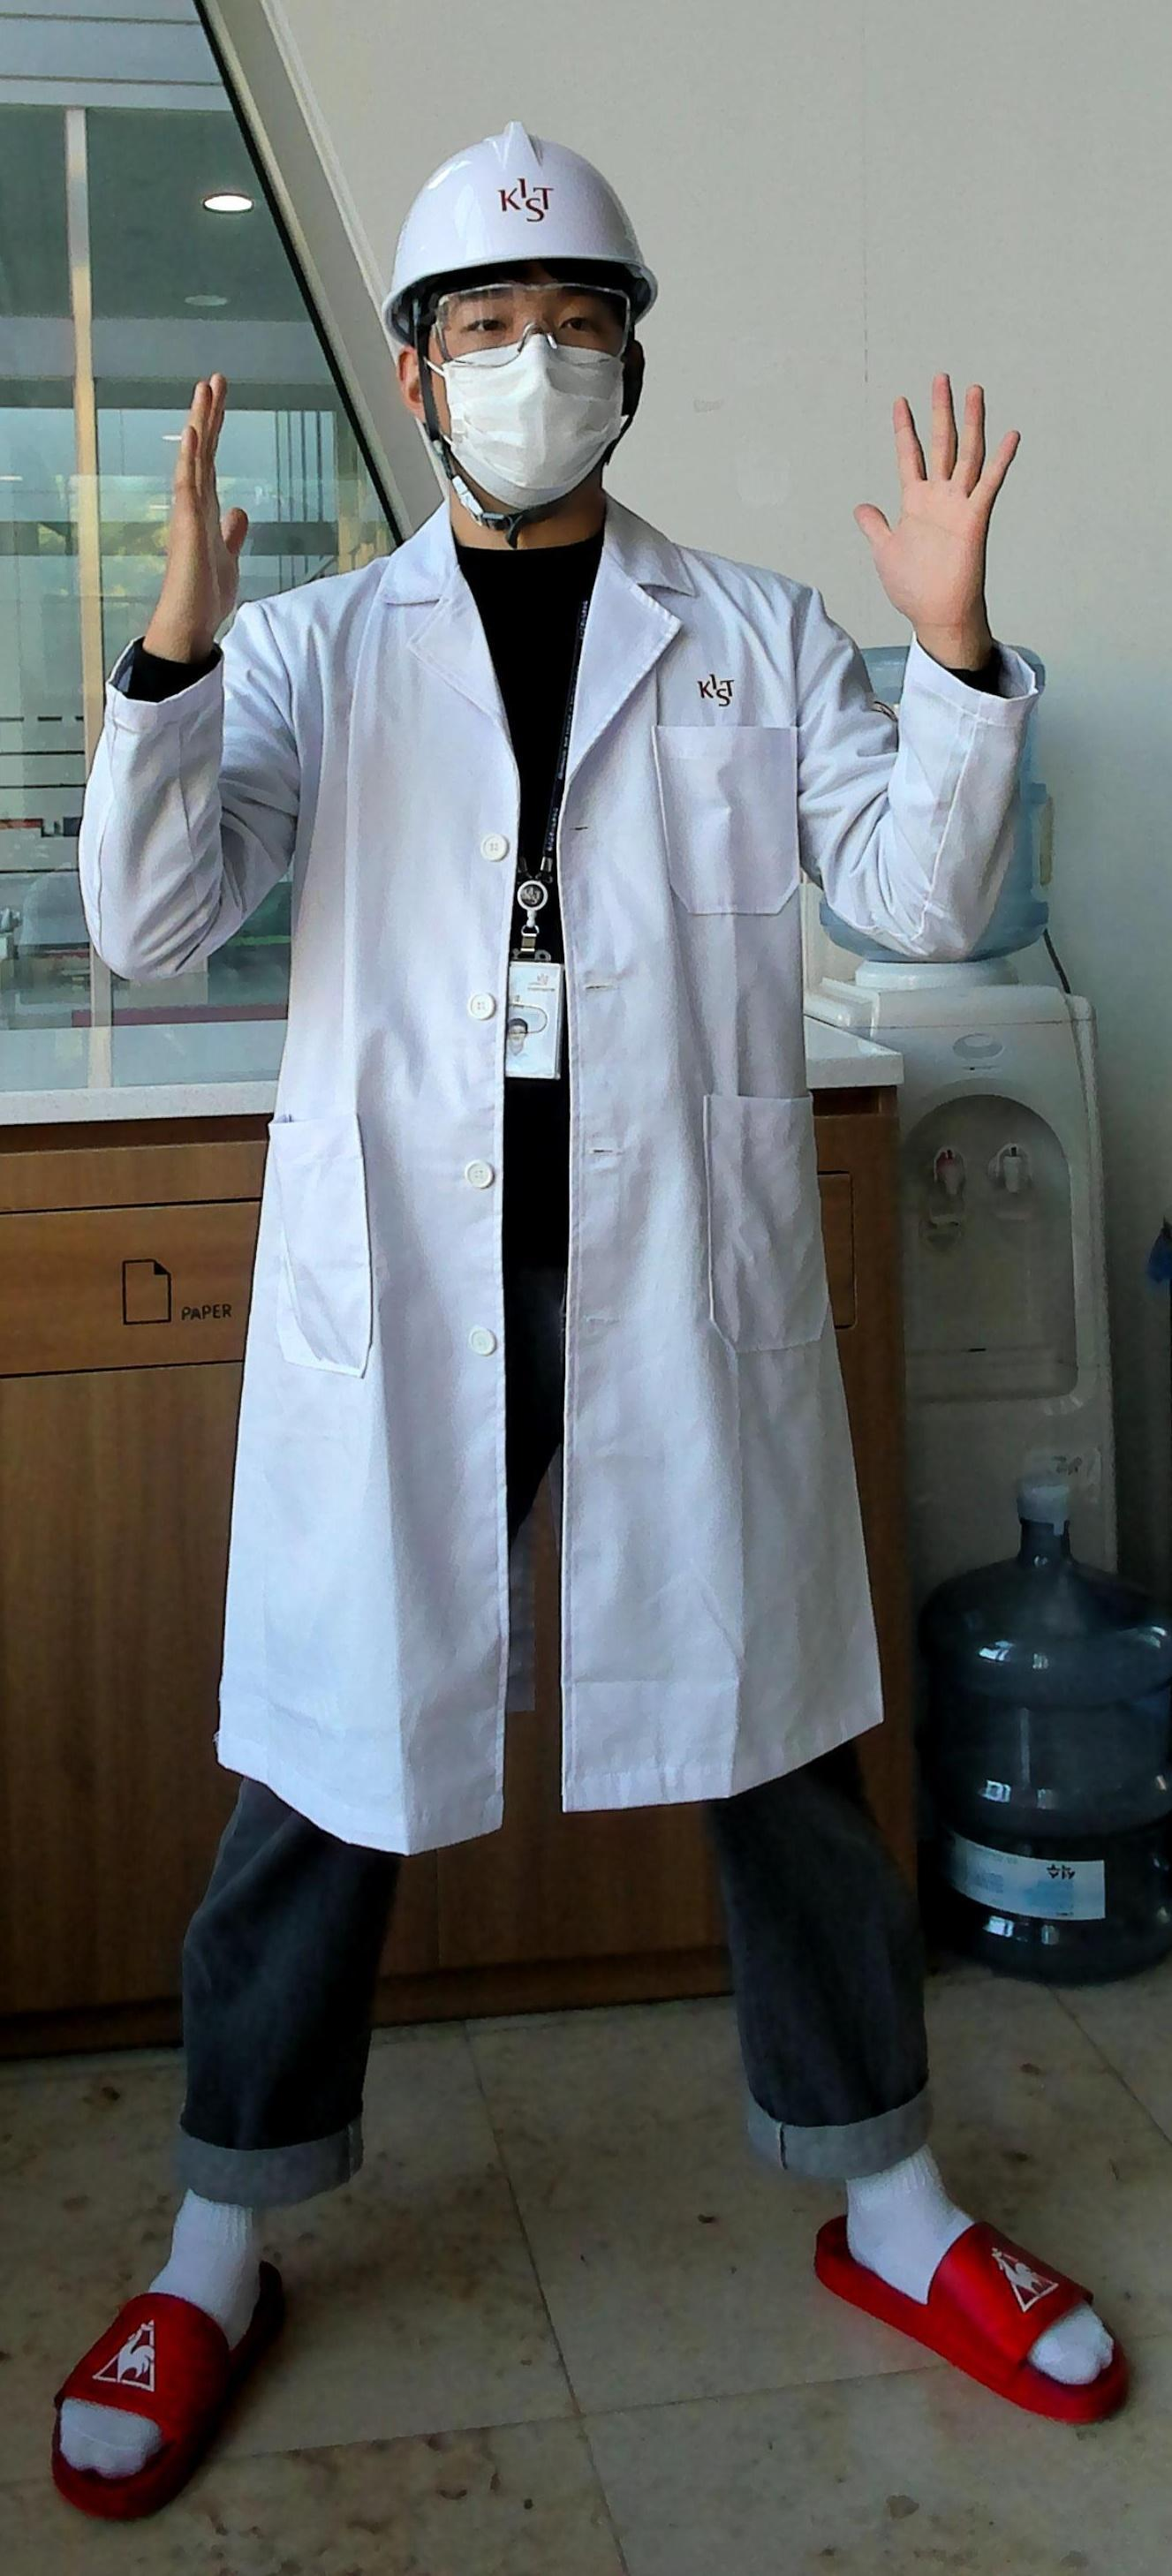lab_coat: (243, 601, 896, 1784)
